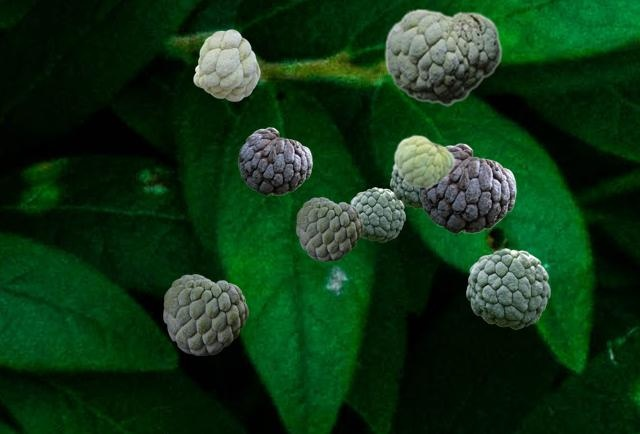atis: (384, 8, 501, 105), (419, 143, 515, 232), (163, 274, 247, 354), (466, 248, 549, 328), (238, 127, 311, 194), (193, 29, 259, 100), (296, 197, 362, 260), (393, 134, 454, 188), (350, 187, 404, 241), (390, 164, 422, 209)
